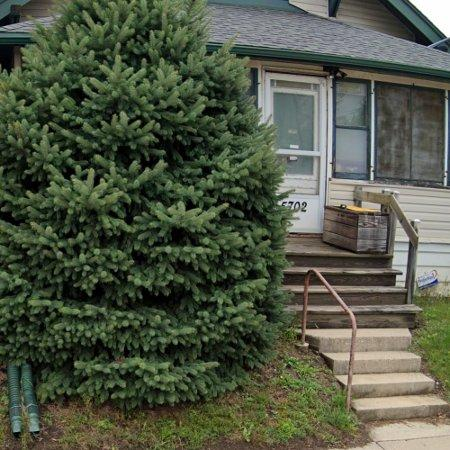stairs: (284, 238, 450, 421), (308, 278, 352, 387)
